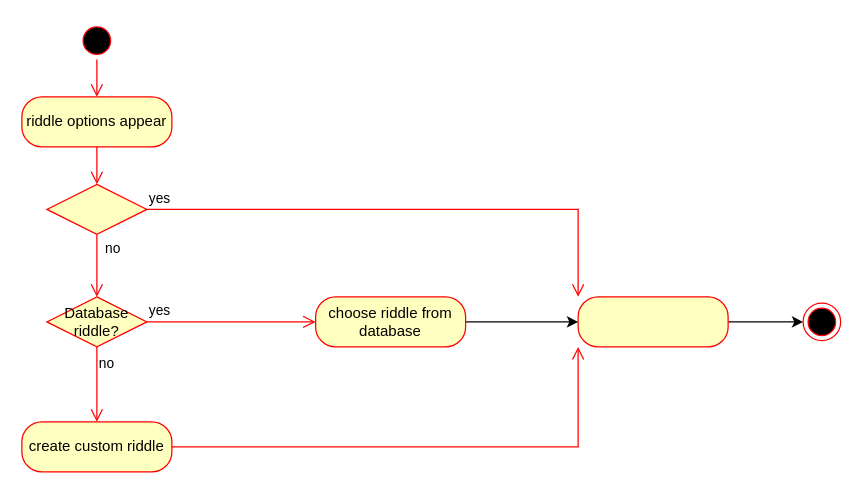
The diagram is 863 pixels wide and 494 high, and some of its shapes have lost their labels. The centre of each missing label's shape, as x and y in pixels:
"default riddle?" goes at pixel 96 208.
"story is set" goes at pixel 652 321.
